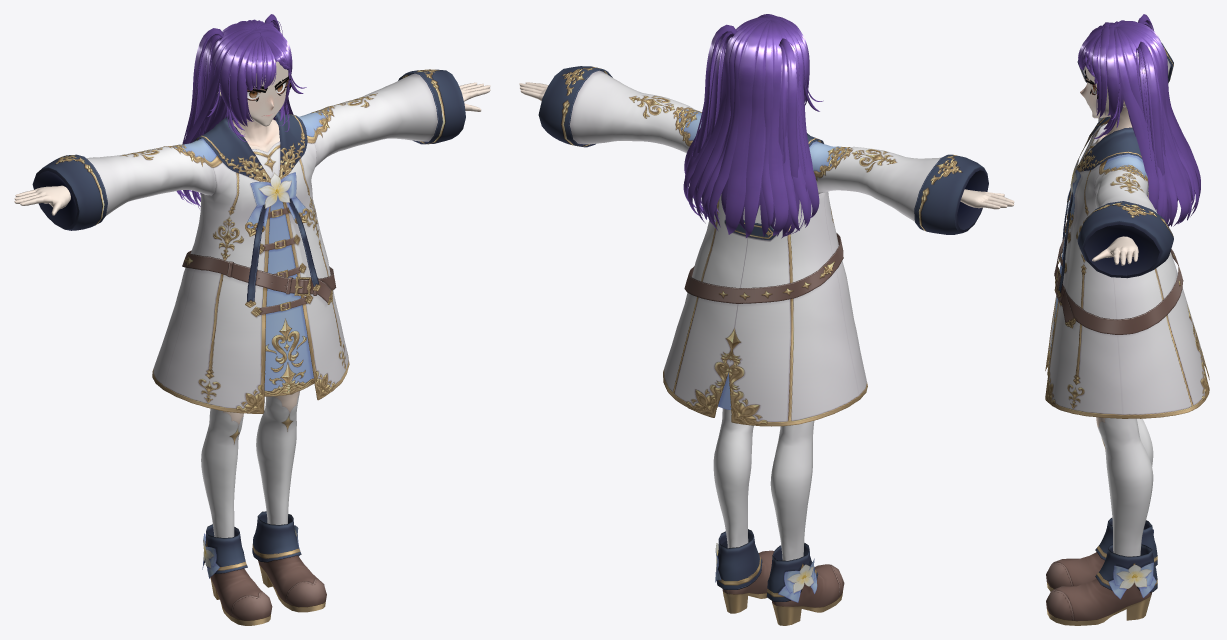
Rendered from Shinobu.fbx.
The picture shows the model from 3 angles, left to right: view 1: azimuth 30°, elevation 25°; view 2: azimuth 150°, elevation 25°; view 3: azimuth 270°, elevation 25°; orthographic projection. The views are drawn at different scales.
Visible parts, largest first — view 1: Body, Hair, Face; view 2: Body, Hair; view 3: Body, Hair, Face.
Part boxes in pixels (x1=…): Body: x1=14, y1=57, x2=490, y2=625; Hair: x1=176, y1=14, x2=306, y2=208; Face: x1=217, y1=60, x2=291, y2=126; Body: x1=519, y1=66, x2=1014, y2=625; Hair: x1=683, y1=14, x2=823, y2=238; Body: x1=1045, y1=42, x2=1209, y2=625; Hair: x1=1078, y1=14, x2=1200, y2=226; Face: x1=1080, y1=66, x2=1126, y2=118.
Size of the model in its own units: 144 by 164 by 43.64.
18 materials, 18 textured.
